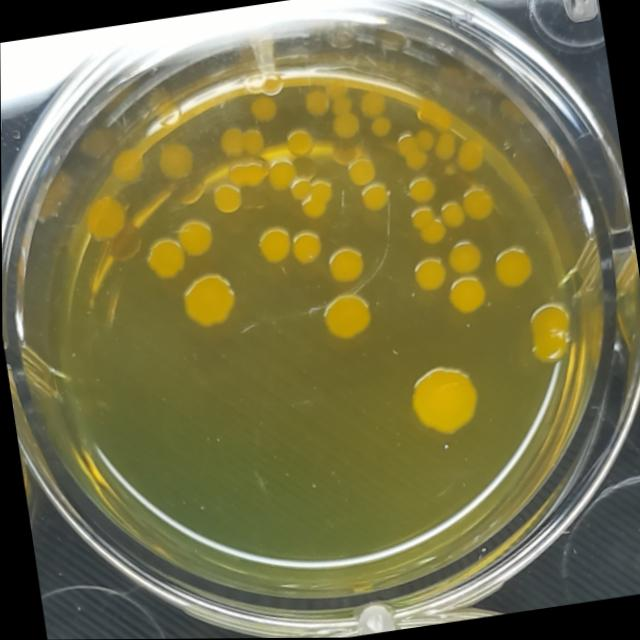vibrio: (401, 354, 486, 448), (174, 262, 242, 333), (310, 280, 377, 348), (518, 295, 578, 369), (78, 190, 132, 248), (318, 237, 372, 294), (486, 240, 537, 293), (287, 174, 339, 224), (140, 233, 189, 285), (443, 271, 491, 319), (214, 120, 267, 163), (153, 136, 198, 186), (105, 141, 150, 190), (173, 216, 217, 262), (253, 222, 295, 270), (441, 235, 484, 280), (407, 252, 449, 296), (459, 182, 498, 226), (392, 128, 429, 173), (224, 157, 270, 192), (287, 227, 326, 268), (208, 178, 246, 218), (451, 136, 487, 176), (263, 156, 300, 194), (356, 180, 394, 215), (283, 125, 318, 161), (343, 154, 377, 190), (403, 172, 437, 208), (328, 109, 362, 144), (248, 92, 280, 127), (301, 85, 331, 121), (356, 87, 388, 120), (415, 216, 448, 248), (429, 128, 459, 162), (436, 199, 467, 230), (405, 201, 435, 232), (364, 114, 393, 141), (412, 126, 436, 154)
